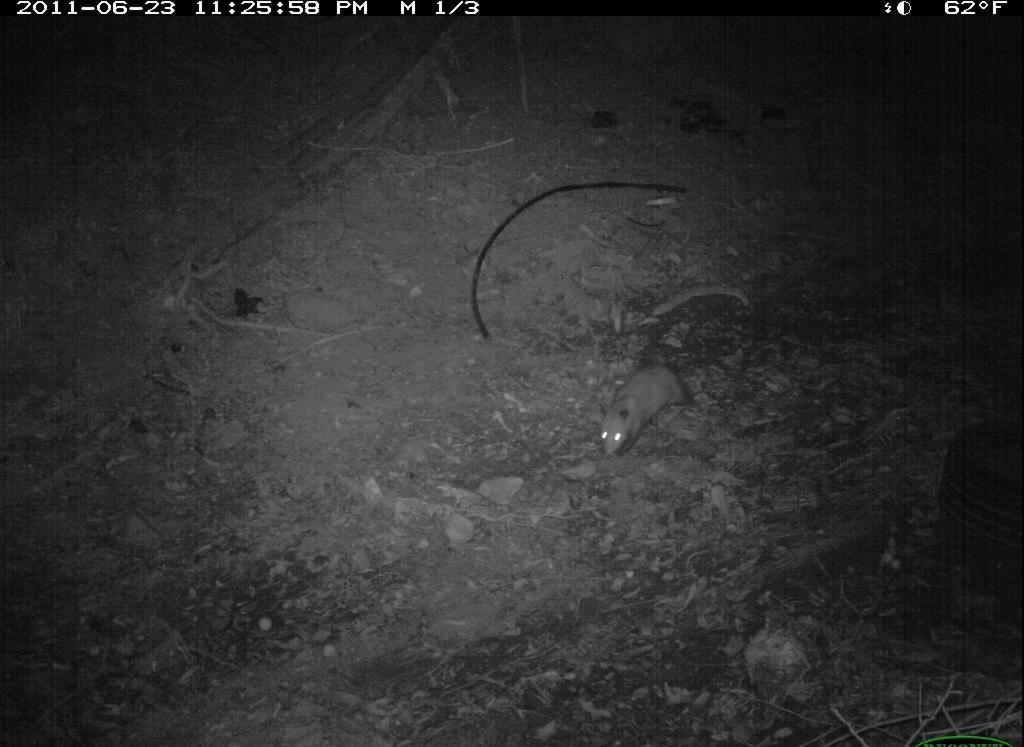opossum: (593, 356, 701, 464)
